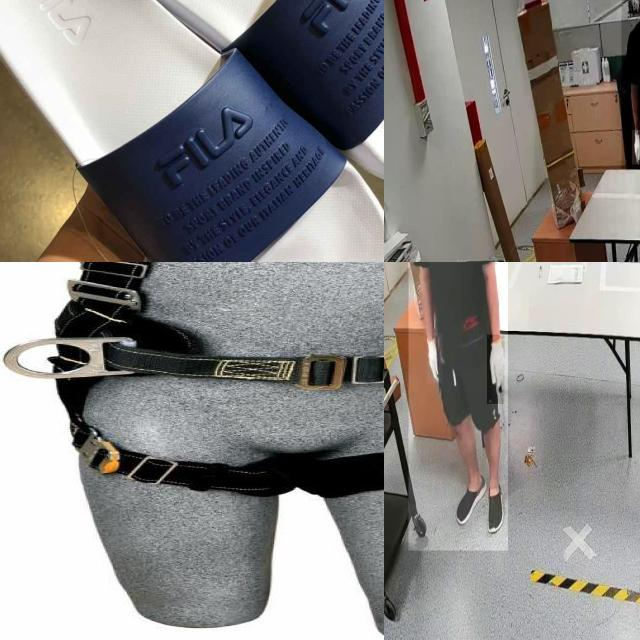Harness: (55, 262, 384, 391)
Sandals: (0, 0, 384, 262)
hand_glove: (487, 334, 505, 404), (427, 333, 443, 384), (632, 129, 640, 165)
person: (408, 262, 508, 551), (621, 0, 640, 169)
shoes: (455, 463, 489, 524), (483, 476, 503, 534)
